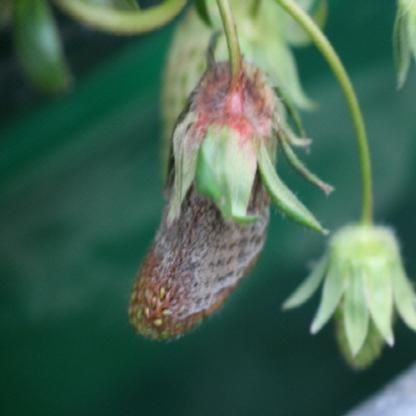Strawberry_Gray_Mold: (127, 31, 288, 342)
